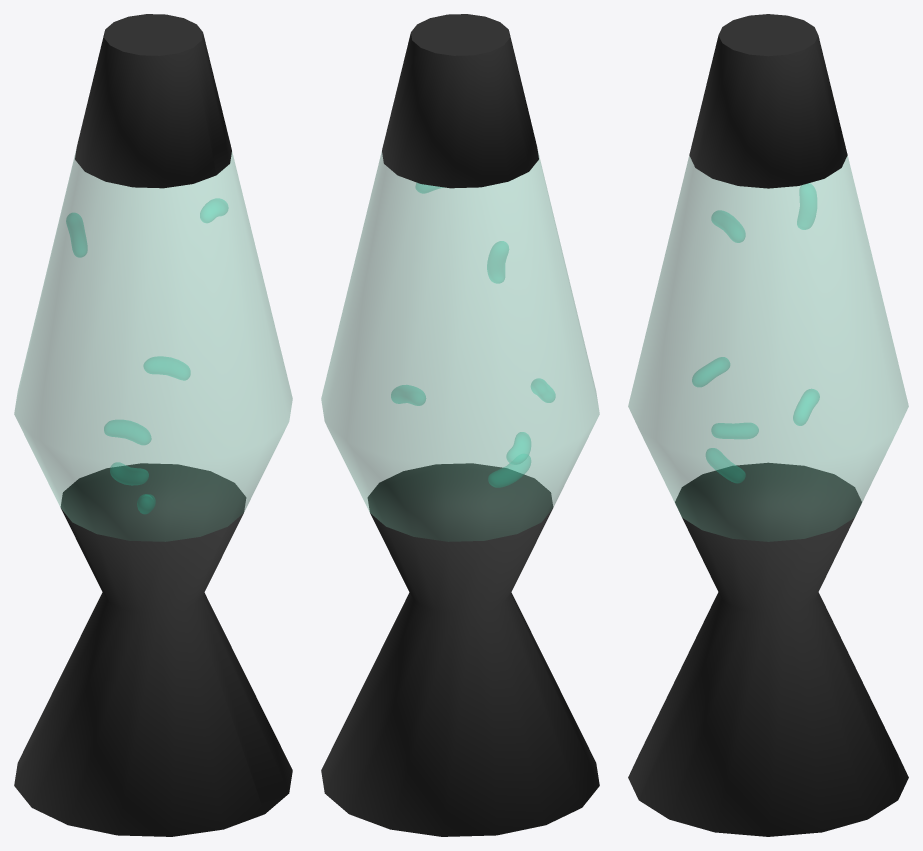
File: synbio.glb
3 renders of one model, left to right at view 1: azimuth 30°, elevation 25°; view 2: azimuth 150°, elevation 25°; view 3: azimuth 270°, elevation 25°, orthographic.
Parts seen in each view (by area): view 1: lavalamp_lamptexuer_shine_0.001, lavalamp_lamptexuer_shine_0.002, Cylinder.005, Cylinder.001, Cylinder.004, Cylinder.006; view 2: lavalamp_lamptexuer_shine_0.001, lavalamp_lamptexuer_shine_0.002, Cylinder.004, Cylinder, Cylinder.001, Cylinder.006; view 3: lavalamp_lamptexuer_shine_0.001, lavalamp_lamptexuer_shine_0.002, Cylinder.004, Cylinder, Cylinder.006, Cylinder.003, Cylinder.005, Cylinder.001.
Part boxes in pixels (left/top/right/bottom): lavalamp_lamptexuer_shine_0.001: left=14, top=14, right=292, bottom=836; lavalamp_lamptexuer_shine_0.002: left=14, top=148, right=292, bottom=541; Cylinder.005: left=104, top=420, right=151, bottom=444; Cylinder.001: left=144, top=356, right=190, bottom=380; Cylinder.004: left=66, top=213, right=87, bottom=257; Cylinder.006: left=110, top=462, right=148, bottom=485; lavalamp_lamptexuer_shine_0.001: left=321, top=14, right=599, bottom=836; lavalamp_lamptexuer_shine_0.002: left=321, top=150, right=599, bottom=541; Cylinder.004: left=487, top=241, right=508, bottom=283; Cylinder: left=488, top=456, right=530, bottom=487; Cylinder.001: left=391, top=385, right=425, bottom=405; Cylinder.006: left=506, top=432, right=530, bottom=464; lavalamp_lamptexuer_shine_0.001: left=628, top=14, right=908, bottom=836; lavalamp_lamptexuer_shine_0.002: left=628, top=156, right=908, bottom=541; Cylinder.004: left=797, top=183, right=816, bottom=229; Cylinder: left=706, top=448, right=745, bottom=482; Cylinder.006: left=711, top=423, right=758, bottom=438; Cylinder.003: left=711, top=210, right=745, bottom=242; Cylinder.005: left=692, top=357, right=729, bottom=386; Cylinder.001: left=793, top=389, right=819, bottom=425.
Bounding box in the file's own units: 12 × 35 × 12.
